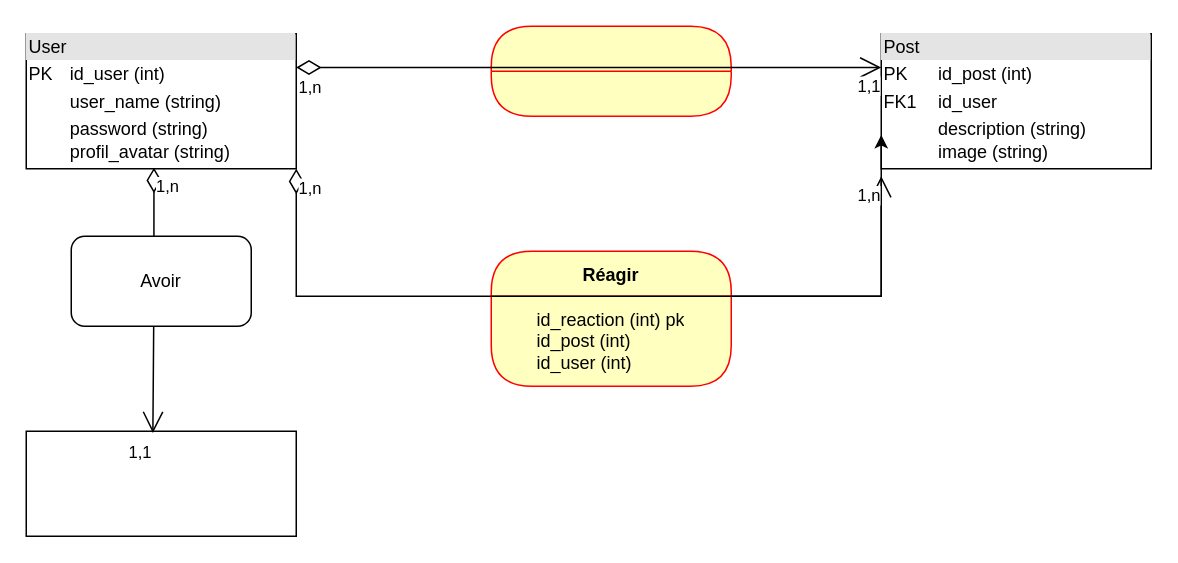
Image size: 1178x563. Some labels were removed from this diagram. Each missing label, with the box of its shape:
créer: (490, 25, 731, 116)
Friend PK id_friend (int) FK1 id_user(int): (25, 430, 296, 536)
